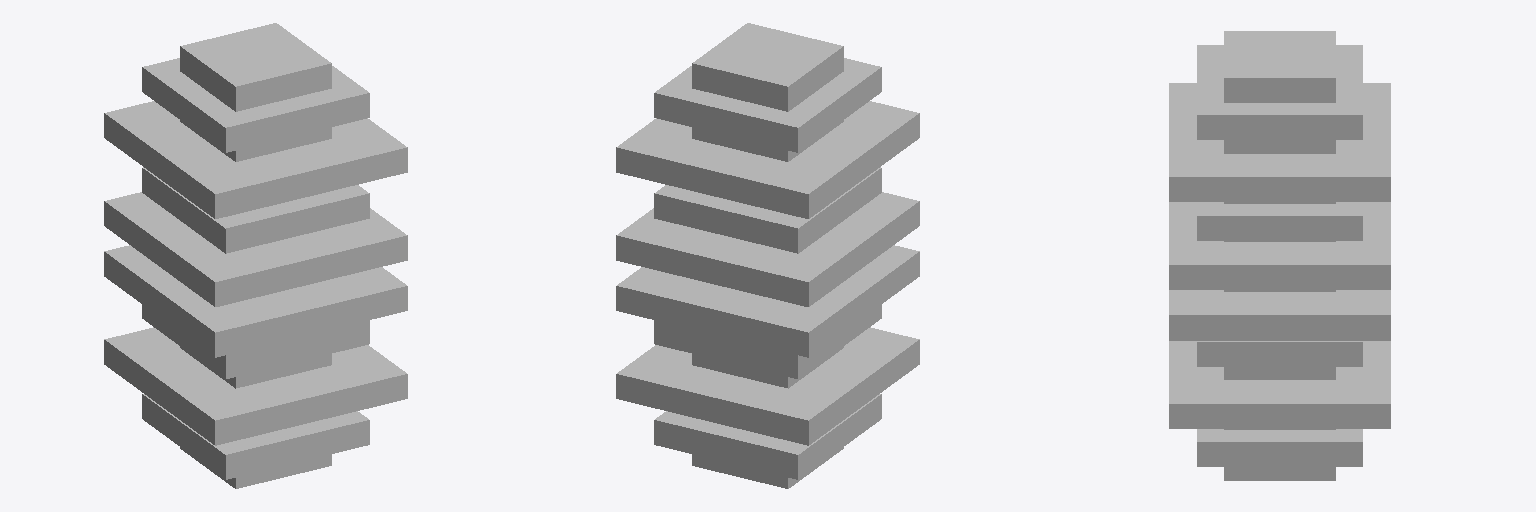
File: insulator.obj
The picture shows the model from 3 angles: view 1: azimuth 30°, elevation 25°; view 2: azimuth 150°, elevation 25°; view 3: azimuth 270°, elevation 25°; orthographic projection.
Parts seen in each view (by area): view 1: large_ring_04, large_ring_01, large_ring_03, large_ring_02, root, small_ring_01, small_ring_02, small_ring_04, small_ring_03; view 2: large_ring_04, large_ring_01, large_ring_03, large_ring_02, root, small_ring_01, small_ring_02, small_ring_04, small_ring_03; view 3: large_ring_04, large_ring_01, root, large_ring_03, large_ring_02, small_ring_01, small_ring_02, small_ring_04, small_ring_03.
Part boxes in pixels (left/top/right/bottom): large_ring_04: left=104, top=101, right=407, bottom=218; large_ring_01: left=104, top=327, right=407, bottom=445; large_ring_03: left=104, top=192, right=407, bottom=306; large_ring_02: left=104, top=245, right=407, bottom=357; root: left=180, top=23, right=331, bottom=488; small_ring_01: left=142, top=58, right=369, bottom=152; small_ring_02: left=142, top=167, right=369, bottom=253; small_ring_04: left=142, top=394, right=369, bottom=479; small_ring_03: left=142, top=304, right=369, bottom=379; large_ring_04: left=616, top=101, right=919, bottom=218; large_ring_01: left=616, top=327, right=919, bottom=445; large_ring_03: left=616, top=192, right=919, bottom=306; large_ring_02: left=616, top=245, right=919, bottom=357; root: left=692, top=23, right=843, bottom=488; small_ring_01: left=654, top=58, right=881, bottom=152; small_ring_02: left=654, top=167, right=881, bottom=253; small_ring_04: left=654, top=394, right=881, bottom=479; small_ring_03: left=654, top=304, right=881, bottom=379; large_ring_04: left=1169, top=83, right=1390, bottom=201; large_ring_01: left=1169, top=341, right=1390, bottom=428; root: left=1224, top=31, right=1335, bottom=480; large_ring_03: left=1169, top=202, right=1390, bottom=289; large_ring_02: left=1169, top=290, right=1390, bottom=340; small_ring_01: left=1197, top=45, right=1362, bottom=139; small_ring_02: left=1197, top=202, right=1362, bottom=240; small_ring_04: left=1197, top=429, right=1362, bottom=466; small_ring_03: left=1197, top=341, right=1362, bottom=366.
Size of the model in its own units: 0.25 by 0.5 by 0.25.